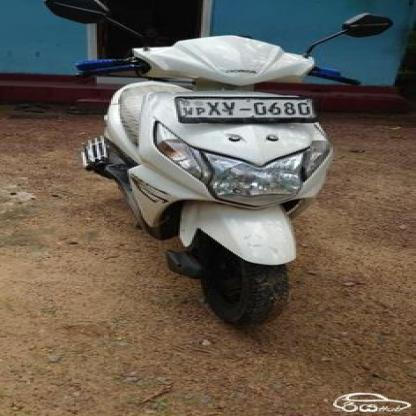bike front: (43, 0, 396, 337)
number plate: (164, 92, 324, 124)
